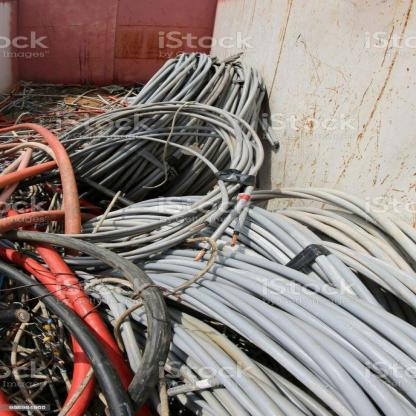wires: (1, 52, 415, 414)
